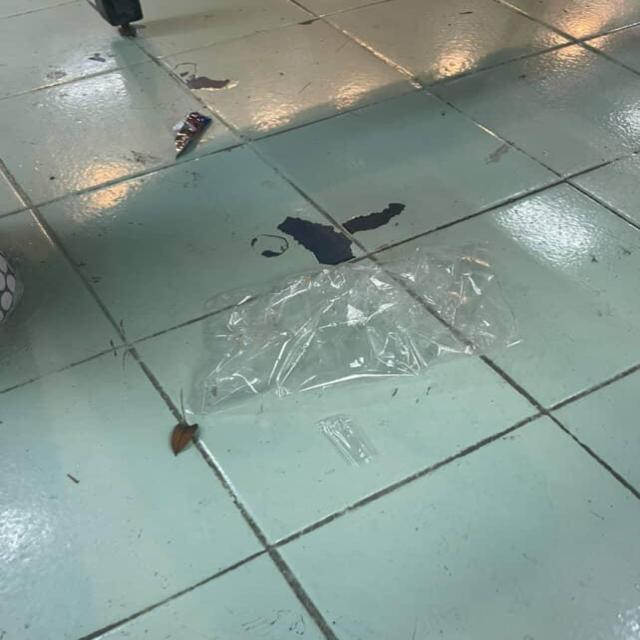plastic bag: (153, 205, 493, 435)
